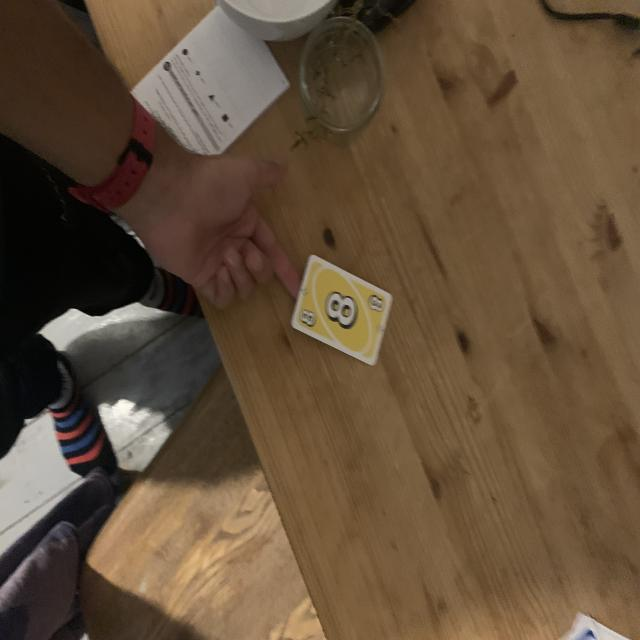lyellow-8: (297, 305, 319, 329)
